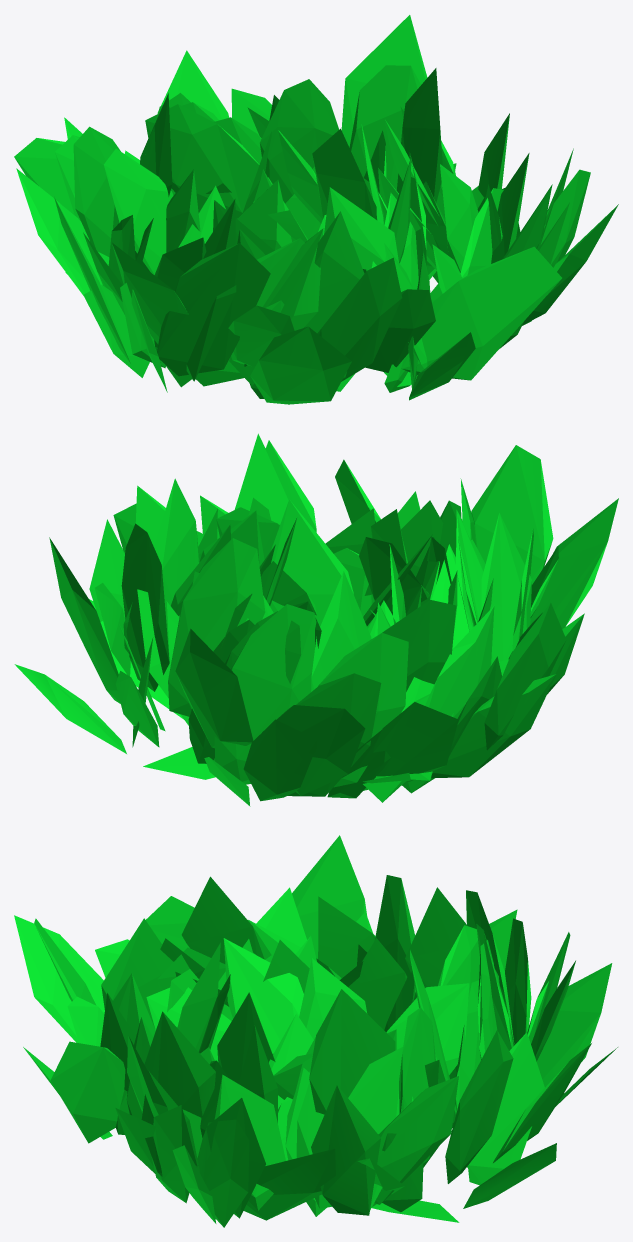
The model's file is shrubFlat.fbx.
The picture shows the model from 3 angles, top to bottom: view 1: azimuth 30°, elevation 25°; view 2: azimuth 150°, elevation 25°; view 3: azimuth 270°, elevation 25°; orthographic projection. The views are drawn at different scales.
Visible parts, largest first — view 1: tufts; view 2: tufts; view 3: tufts.
Part boxes in pixels (x1,y1,x2,y2): tufts: (14,15,618,404); tufts: (14,433,618,806); tufts: (14,835,617,1227).
Bounding box in the file's own units: 110 × 54.59 × 117.
